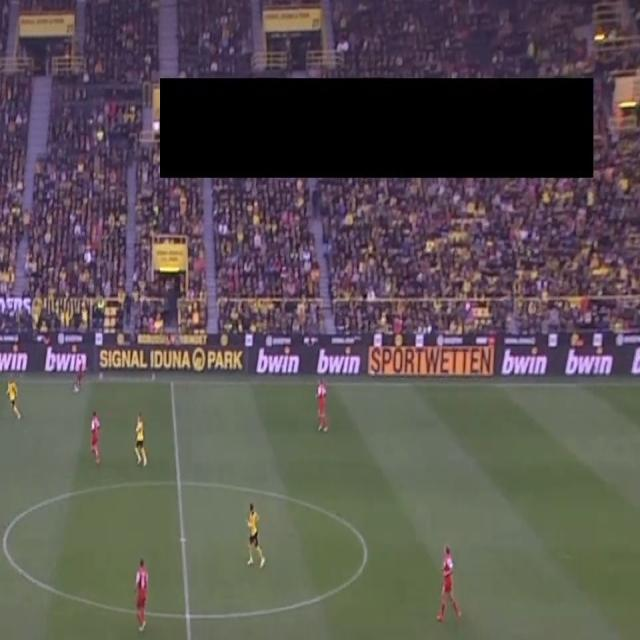ball: (72, 384, 80, 396)
